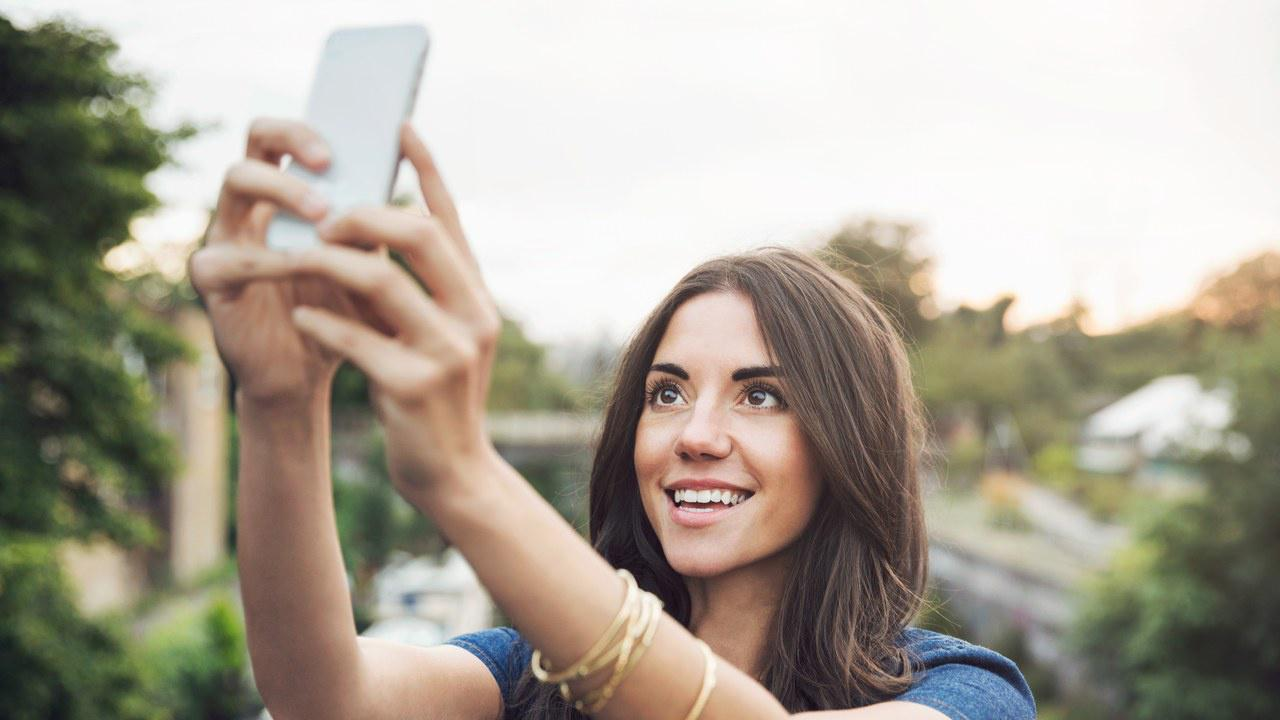face: (633, 290, 801, 577)
